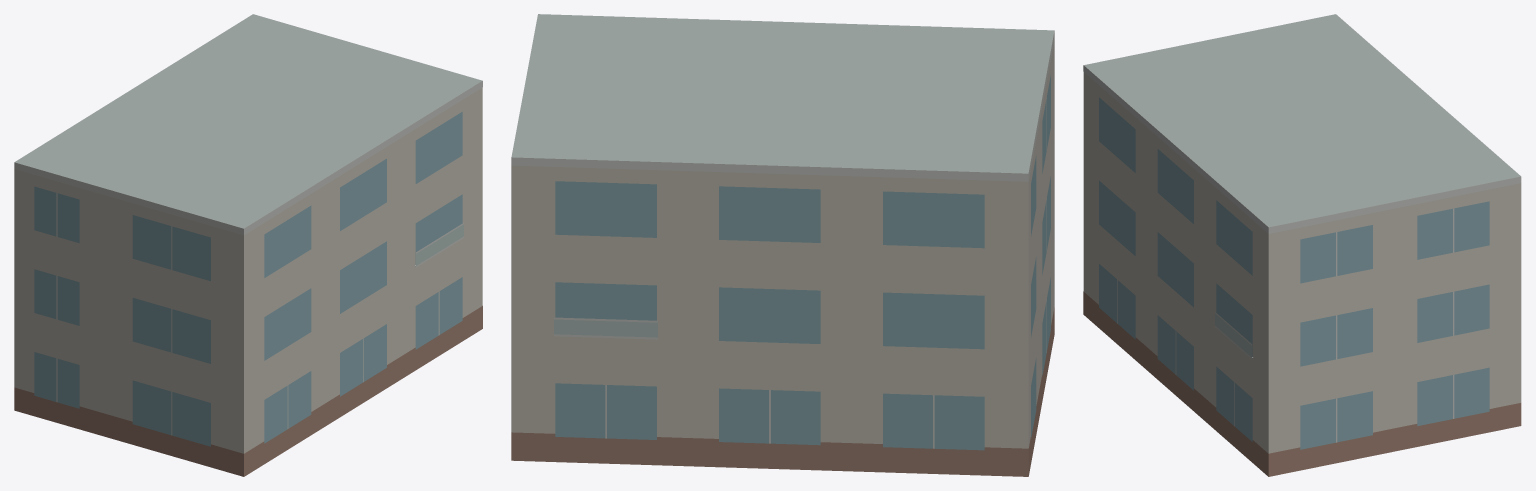
Rendered from survey-upis-32698035.glb.
3 views of the same model, side by side, from view 1: azimuth 30°, elevation 25°; view 2: azimuth 150°, elevation 25°; view 3: azimuth 270°, elevation 25° (orthographic). The views are drawn at different scales.
Visible parts, largest first — view 1: survey-upis-32698035.tmp; view 2: survey-upis-32698035.tmp; view 3: survey-upis-32698035.tmp.
Part boxes in pixels (x1,y1,x2,y2): survey-upis-32698035.tmp: (14, 14, 482, 476); survey-upis-32698035.tmp: (511, 14, 1054, 476); survey-upis-32698035.tmp: (1083, 14, 1521, 476).
Bounding box in the file's own units: 16.79 × 9.15 × 14.56.
